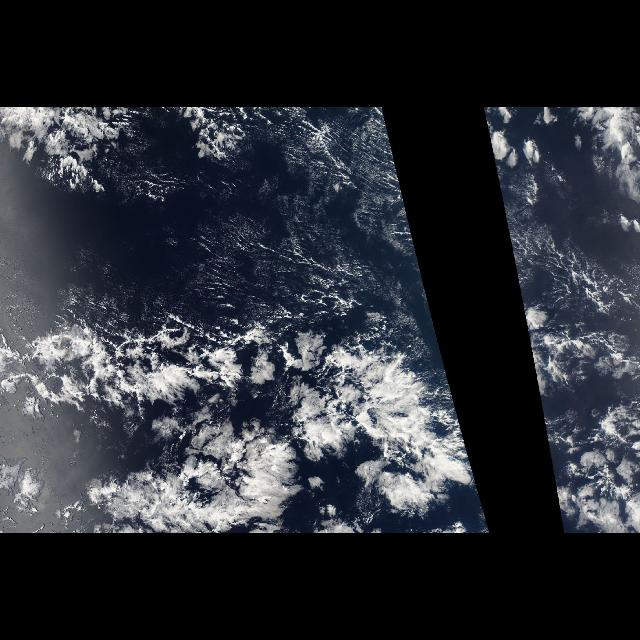Fish: (1, 213, 490, 533)
Sugar: (119, 107, 439, 331)
